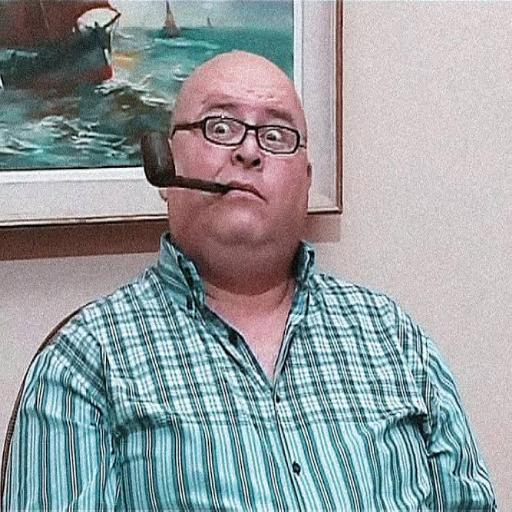sboui: (141, 51, 311, 266)
